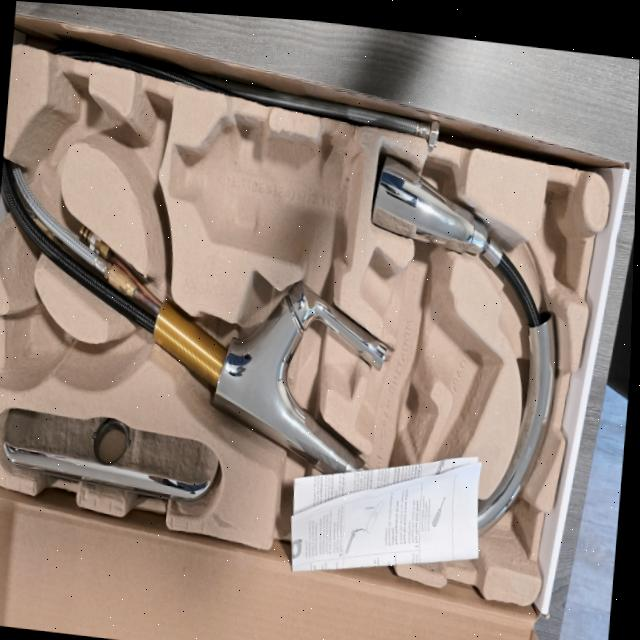1o: (1, 154, 559, 559)
2m: (361, 247, 503, 496)
3m: (169, 116, 365, 266)
4: (3, 407, 219, 503)
5m: (1, 310, 68, 385)
6m: (33, 76, 106, 168)
7m: (109, 98, 174, 230)
8: (290, 453, 481, 574)
